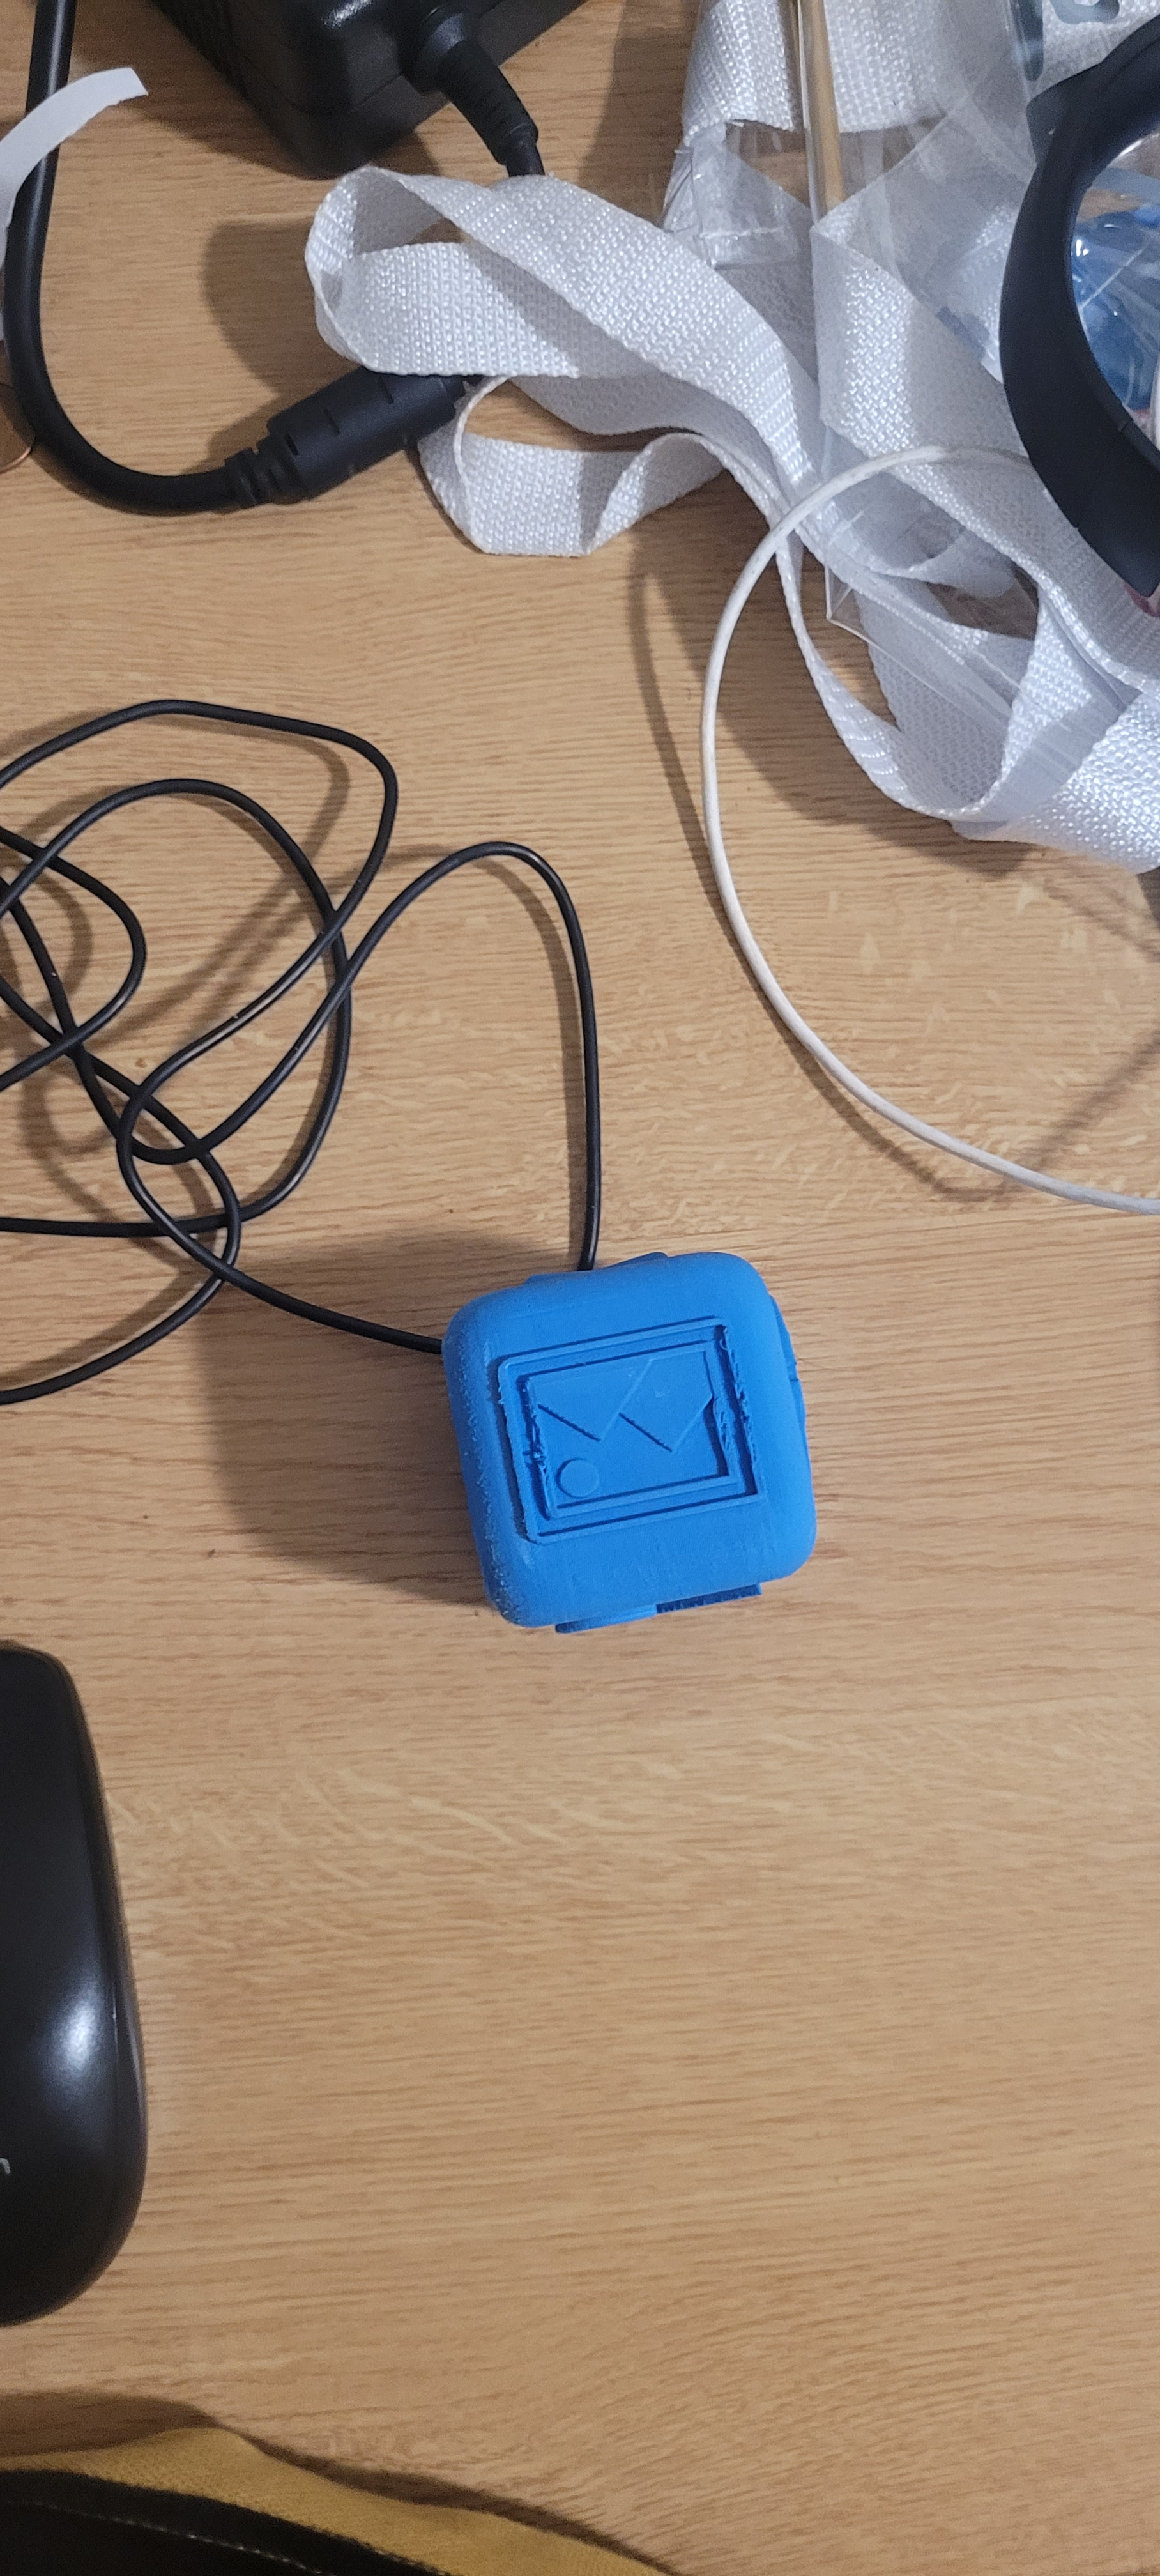Story: (470, 1327, 767, 1579)
